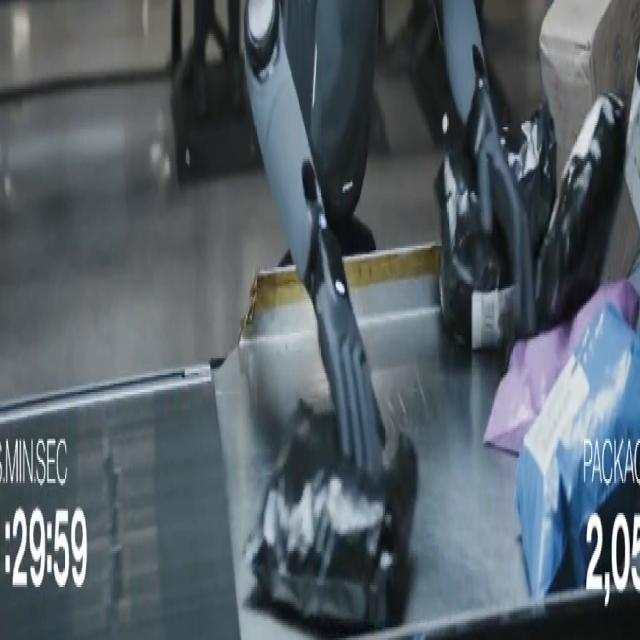package: (244, 403, 417, 631), (516, 306, 639, 597), (484, 280, 639, 453), (535, 96, 625, 330), (540, 0, 639, 171), (435, 147, 513, 349), (614, 47, 639, 262)
